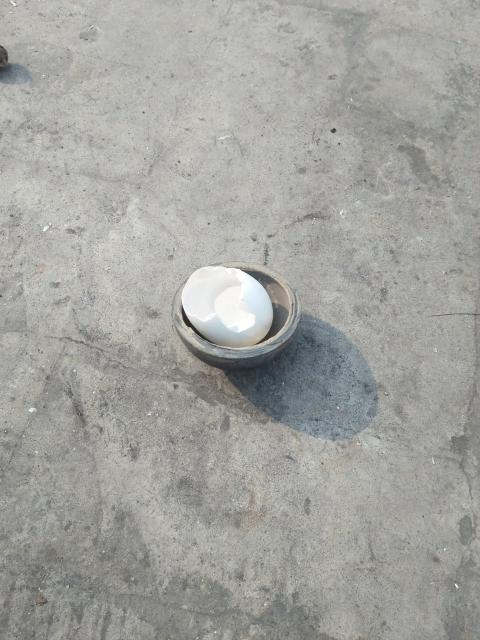Roto: (180, 264, 274, 348)
